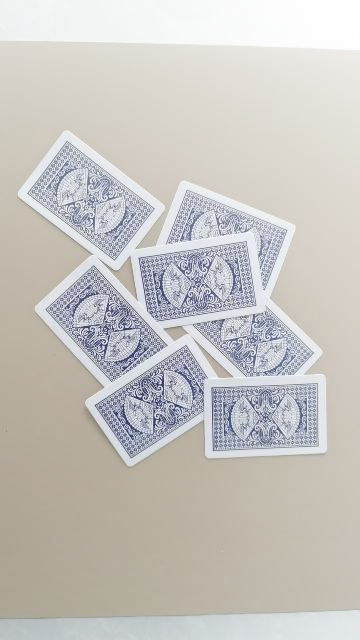card: (19, 131, 164, 270), (35, 255, 172, 386), (85, 335, 215, 466), (158, 181, 295, 296), (131, 232, 265, 328), (184, 298, 322, 376), (204, 375, 326, 459)
